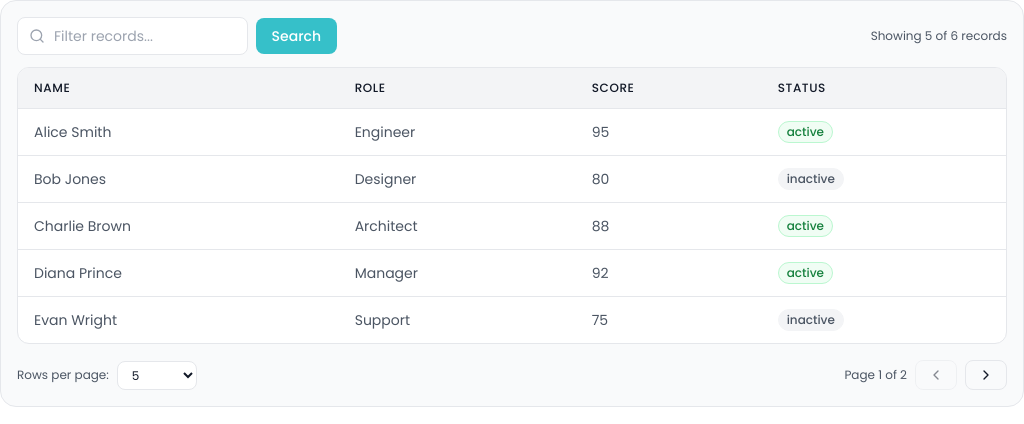
DataTable › filters rows based on search input
In the search field with placeholder "Filter records...": (132,36) [17, 17, 248, 55], type "Designer"
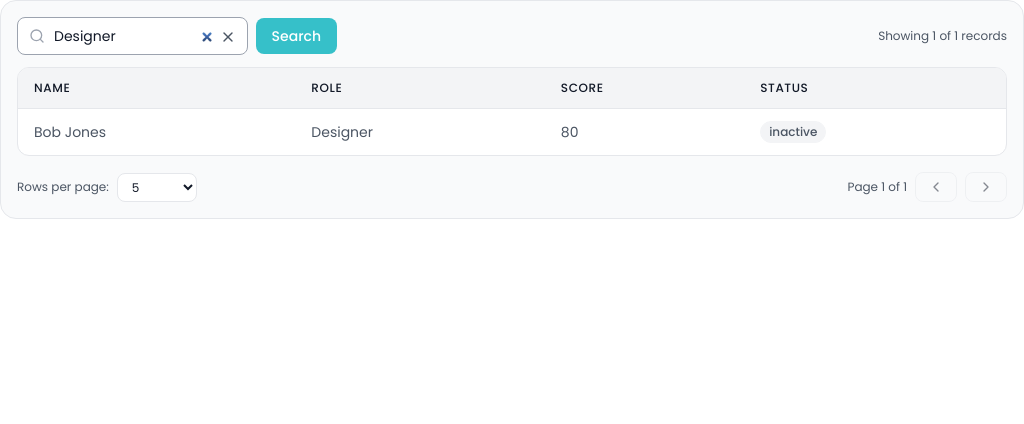
Now the text "Bob Jones" is shown, box [18, 108, 295, 155]
Now the text "Alice Smith" is gone
